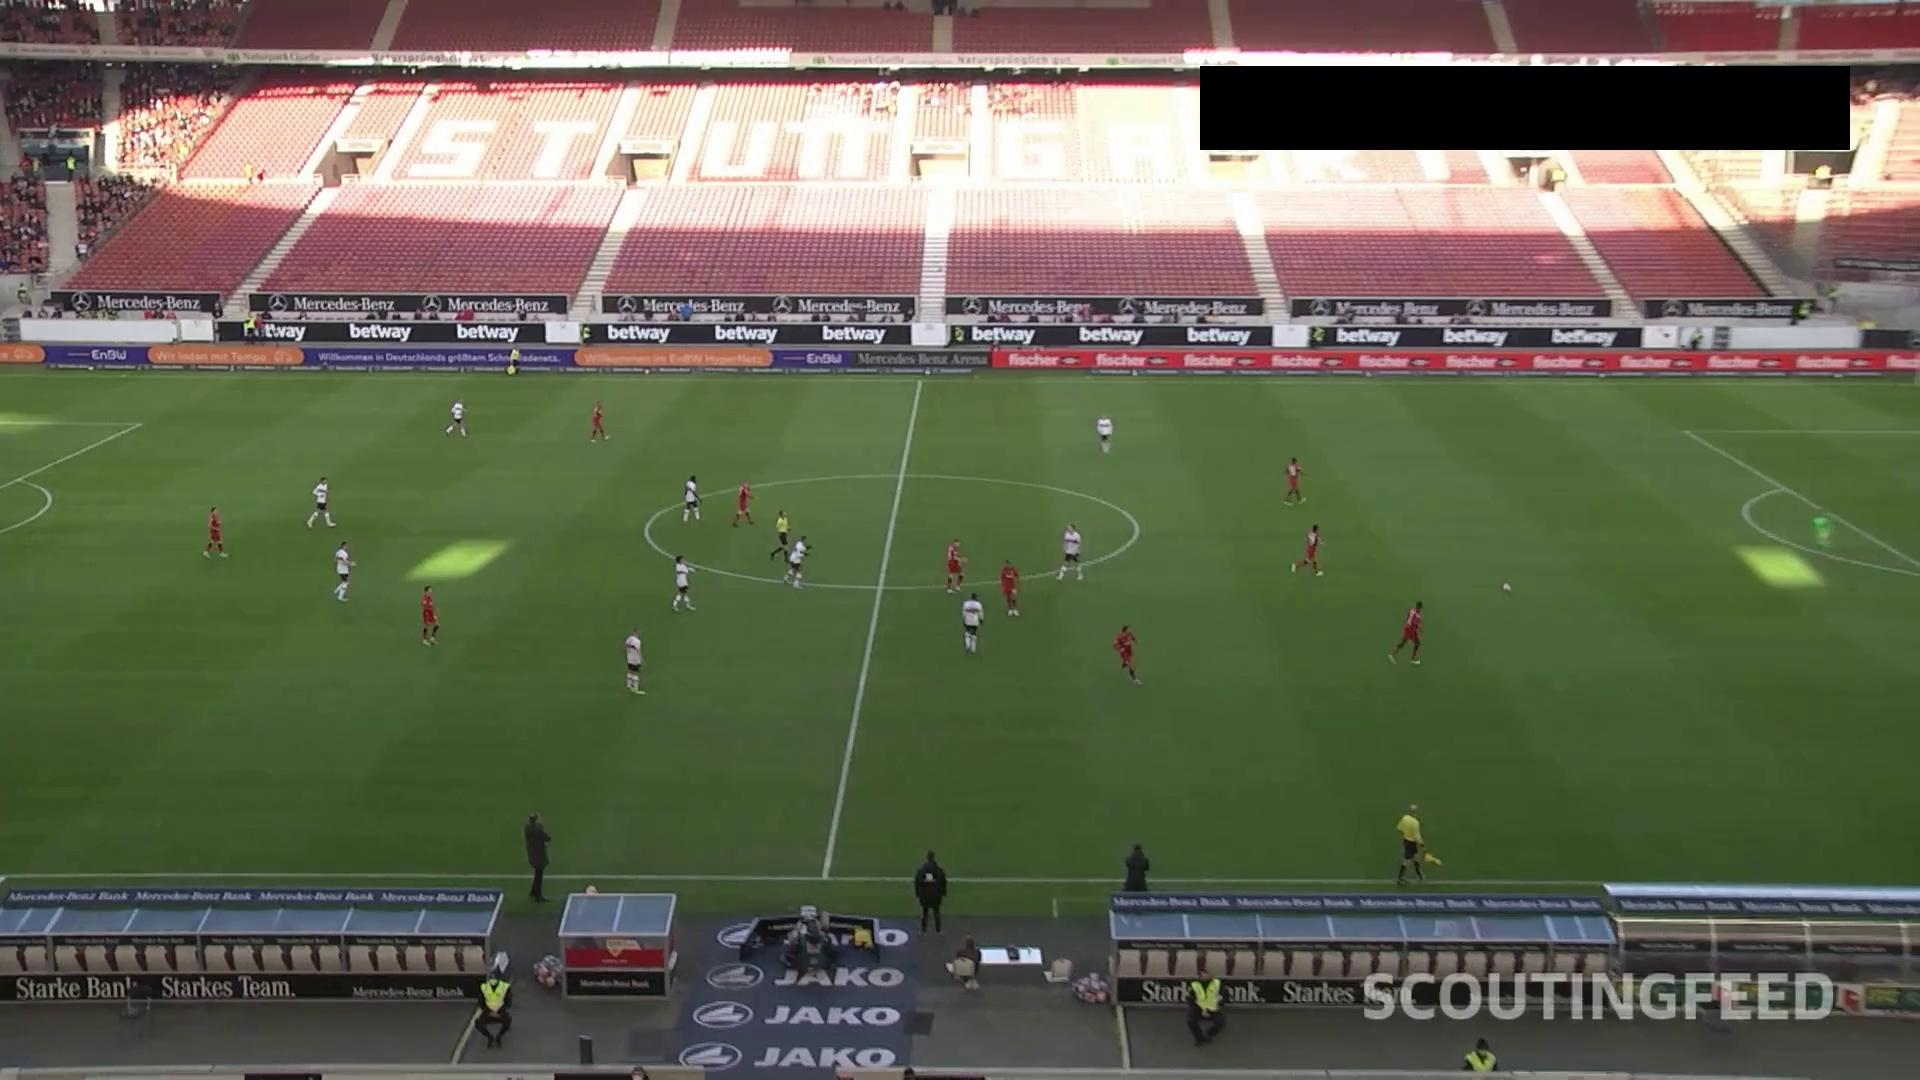Location-of-ball: (1489, 570, 1520, 607)
